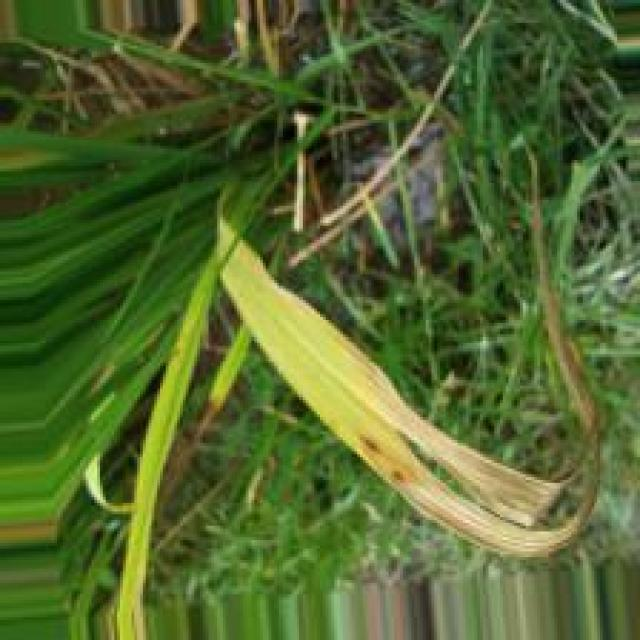Leaf_Scald: (362, 366, 603, 561)
